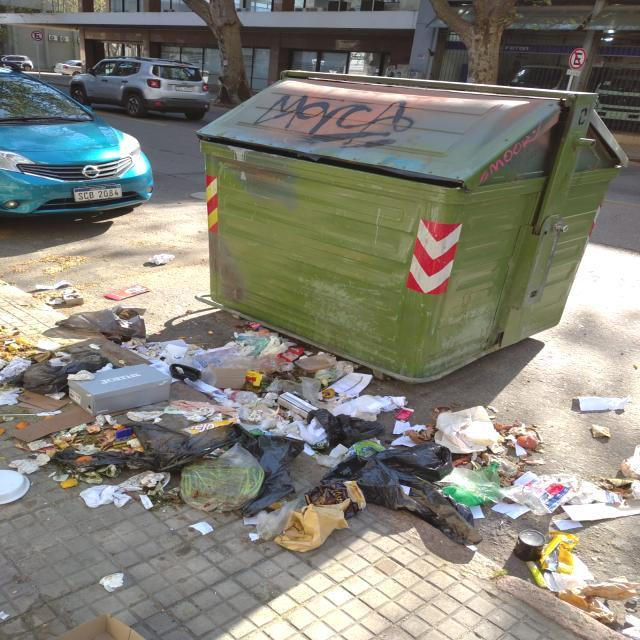high trash: (0, 305, 640, 639)
less trash: (55, 615, 145, 639), (28, 281, 84, 308), (102, 284, 150, 301), (576, 398, 630, 412), (99, 572, 124, 592), (144, 252, 175, 267), (189, 521, 214, 534), (591, 426, 610, 438)
